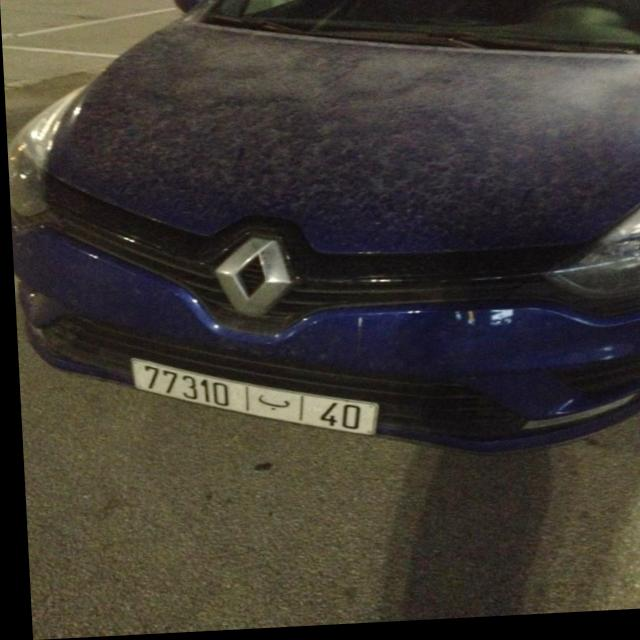License-Plate: (128, 361, 374, 438)
